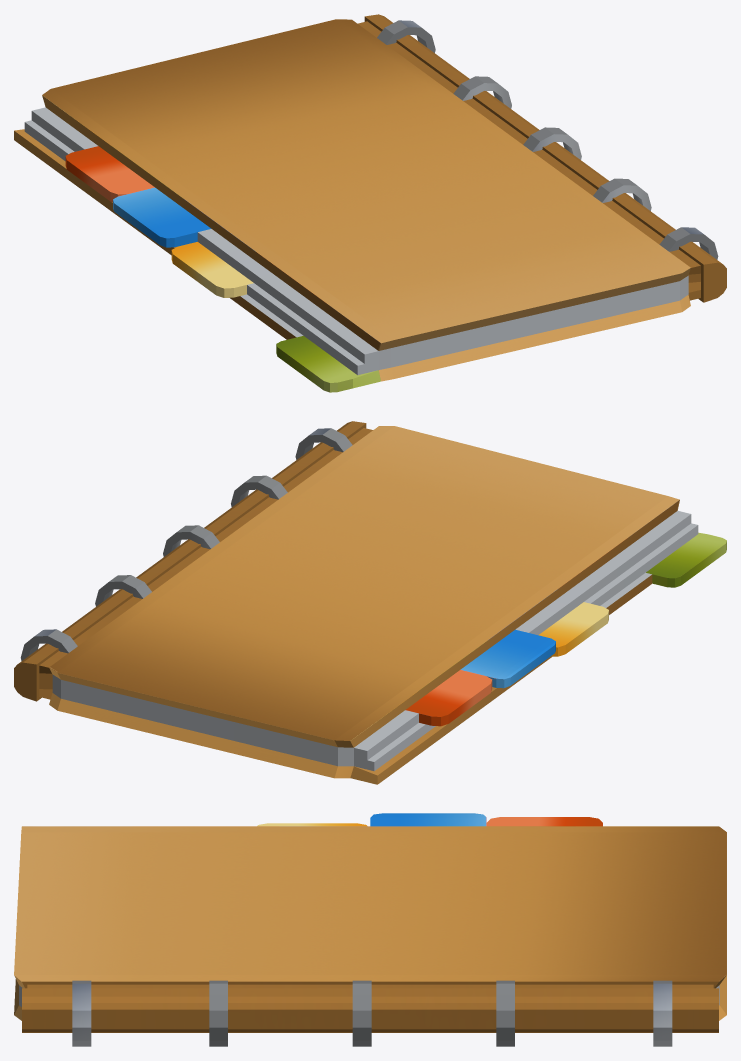
Rendered from HCCookBookGround.fbx.
3 views of the same model, one above another, from view 1: azimuth 30°, elevation 25°; view 2: azimuth 150°, elevation 25°; view 3: azimuth 270°, elevation 25° (orthographic). The views are drawn at different scales.
Visible parts, largest first — view 1: Cylinder.007; view 2: Cylinder.007; view 3: Cylinder.007.
Part boxes in pixels (x1,y1,x2,y2): Cylinder.007: [14, 14, 726, 392]; Cylinder.007: [14, 421, 726, 784]; Cylinder.007: [14, 813, 726, 1046].
Bounding box in the file's own units: 0.197 × 0.0265 × 0.2858.
